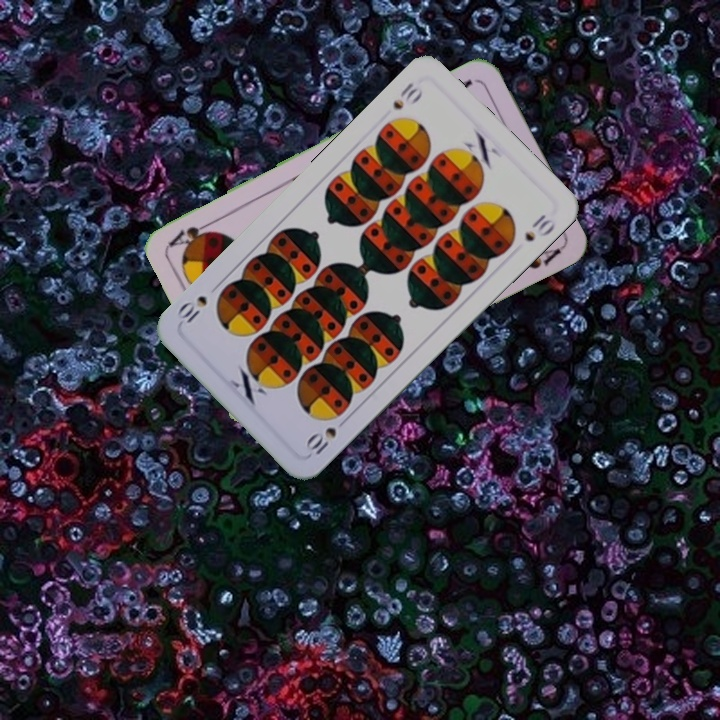S10: (301, 423, 340, 458), (388, 77, 425, 113)
